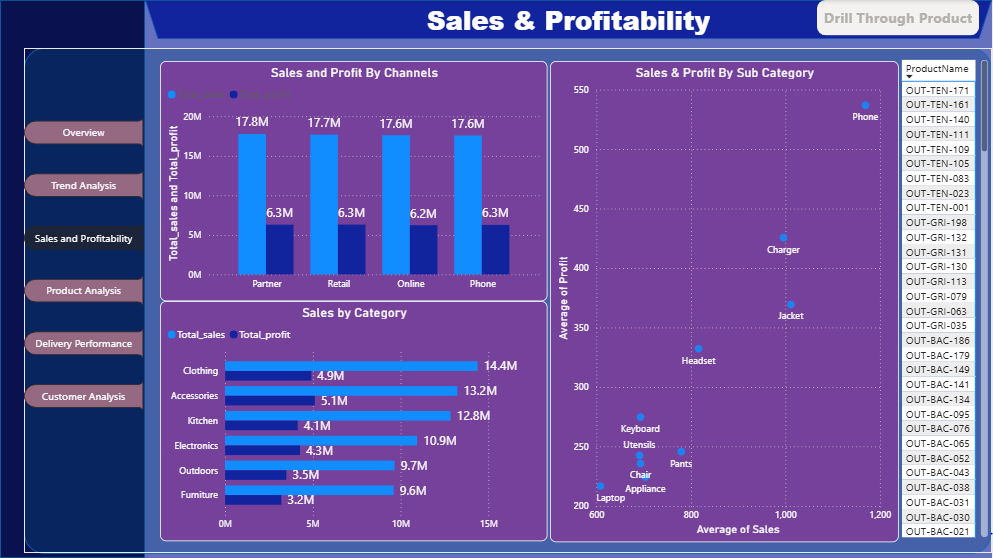

This screenshot's page, from the dashboard's own definition file:
{"tool":"powerbi","page":{"name":"Sales and Profitability","canvas":[1280,720],"ordinal":2},"visuals":[{"type":"shape","box":[0,0,187.1,720.2],"z":0},{"type":"shape","box":[31.4,61.3,1248.6,652.6],"z":1000},{"type":"pageNavigator","box":[31.4,141.5,154.1,402.6],"z":3000},{"type":"clusteredBarChart","title":"Sales by Category","fields":{"Category":["DimProduct.Category"],"Y":["Measure.Total_sales","Measure.Total_profit"]},"box":[206,388.4,500,309.8],"z":4000},{"type":"scatterChart","title":"Sales & Profit By Sub Category","fields":{"Category":["DimProduct.SubCategory"],"Y":["Avg(FactSales.Profit)"],"X":["Avg(FactSales.SalesAmount)"]},"box":[709.2,78.6,449.7,621.1],"z":5000},{"type":"shape","box":[187.1,0,1092.9,50.3],"z":6000},{"type":"clusteredColumnChart","title":"Sales and Profit By Channels","fields":{"Category":["FactSales.Channel"],"Y":["Measure.Total_sales","Measure.Total_profit"]},"box":[206,78.6,500,309.8],"z":7000},{"type":"actionButton","box":[1053.6,0,209.1,45.6],"z":8000},{"type":"pivotTable","fields":{"Rows":["DimProduct.Category Hierarchy.ProductName"]},"box":[1158.9,72.3,121.1,625.8],"z":9000}]}

Visuals, with their boxes in screenshot pixels (x1, y1, x2, y2), scaled from the page's 1280x720 canvas onto the 993x558 screenshot:
shape: {"x1": 0, "y1": 0, "x2": 145, "y2": 557}
shape: {"x1": 24, "y1": 48, "x2": 992, "y2": 553}
pageNavigator: {"x1": 24, "y1": 110, "x2": 144, "y2": 422}
"Sales by Category" clusteredBarChart: {"x1": 160, "y1": 301, "x2": 548, "y2": 541}
"Sales & Profit By Sub Category" scatterChart: {"x1": 550, "y1": 61, "x2": 899, "y2": 542}
shape: {"x1": 145, "y1": 0, "x2": 992, "y2": 39}
"Sales and Profit By Channels" clusteredColumnChart: {"x1": 160, "y1": 61, "x2": 548, "y2": 301}
actionButton: {"x1": 817, "y1": 0, "x2": 980, "y2": 35}
pivotTable - DimProduct.Category Hierarchy.ProductName: {"x1": 899, "y1": 56, "x2": 992, "y2": 541}
